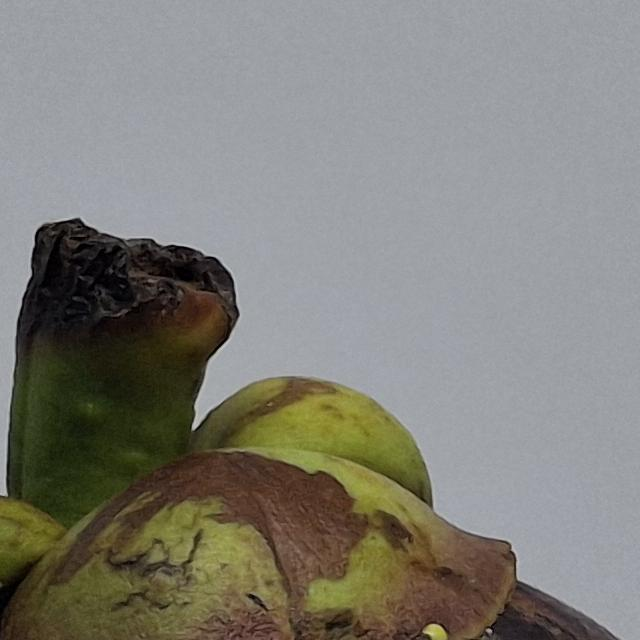mangosteen: (0, 170, 640, 640)
